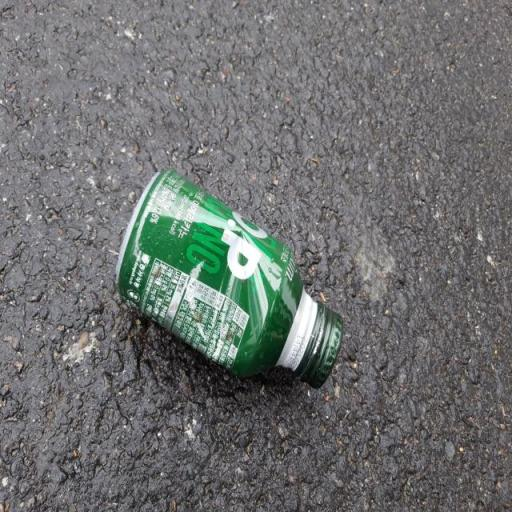metal: (99, 150, 347, 445)
